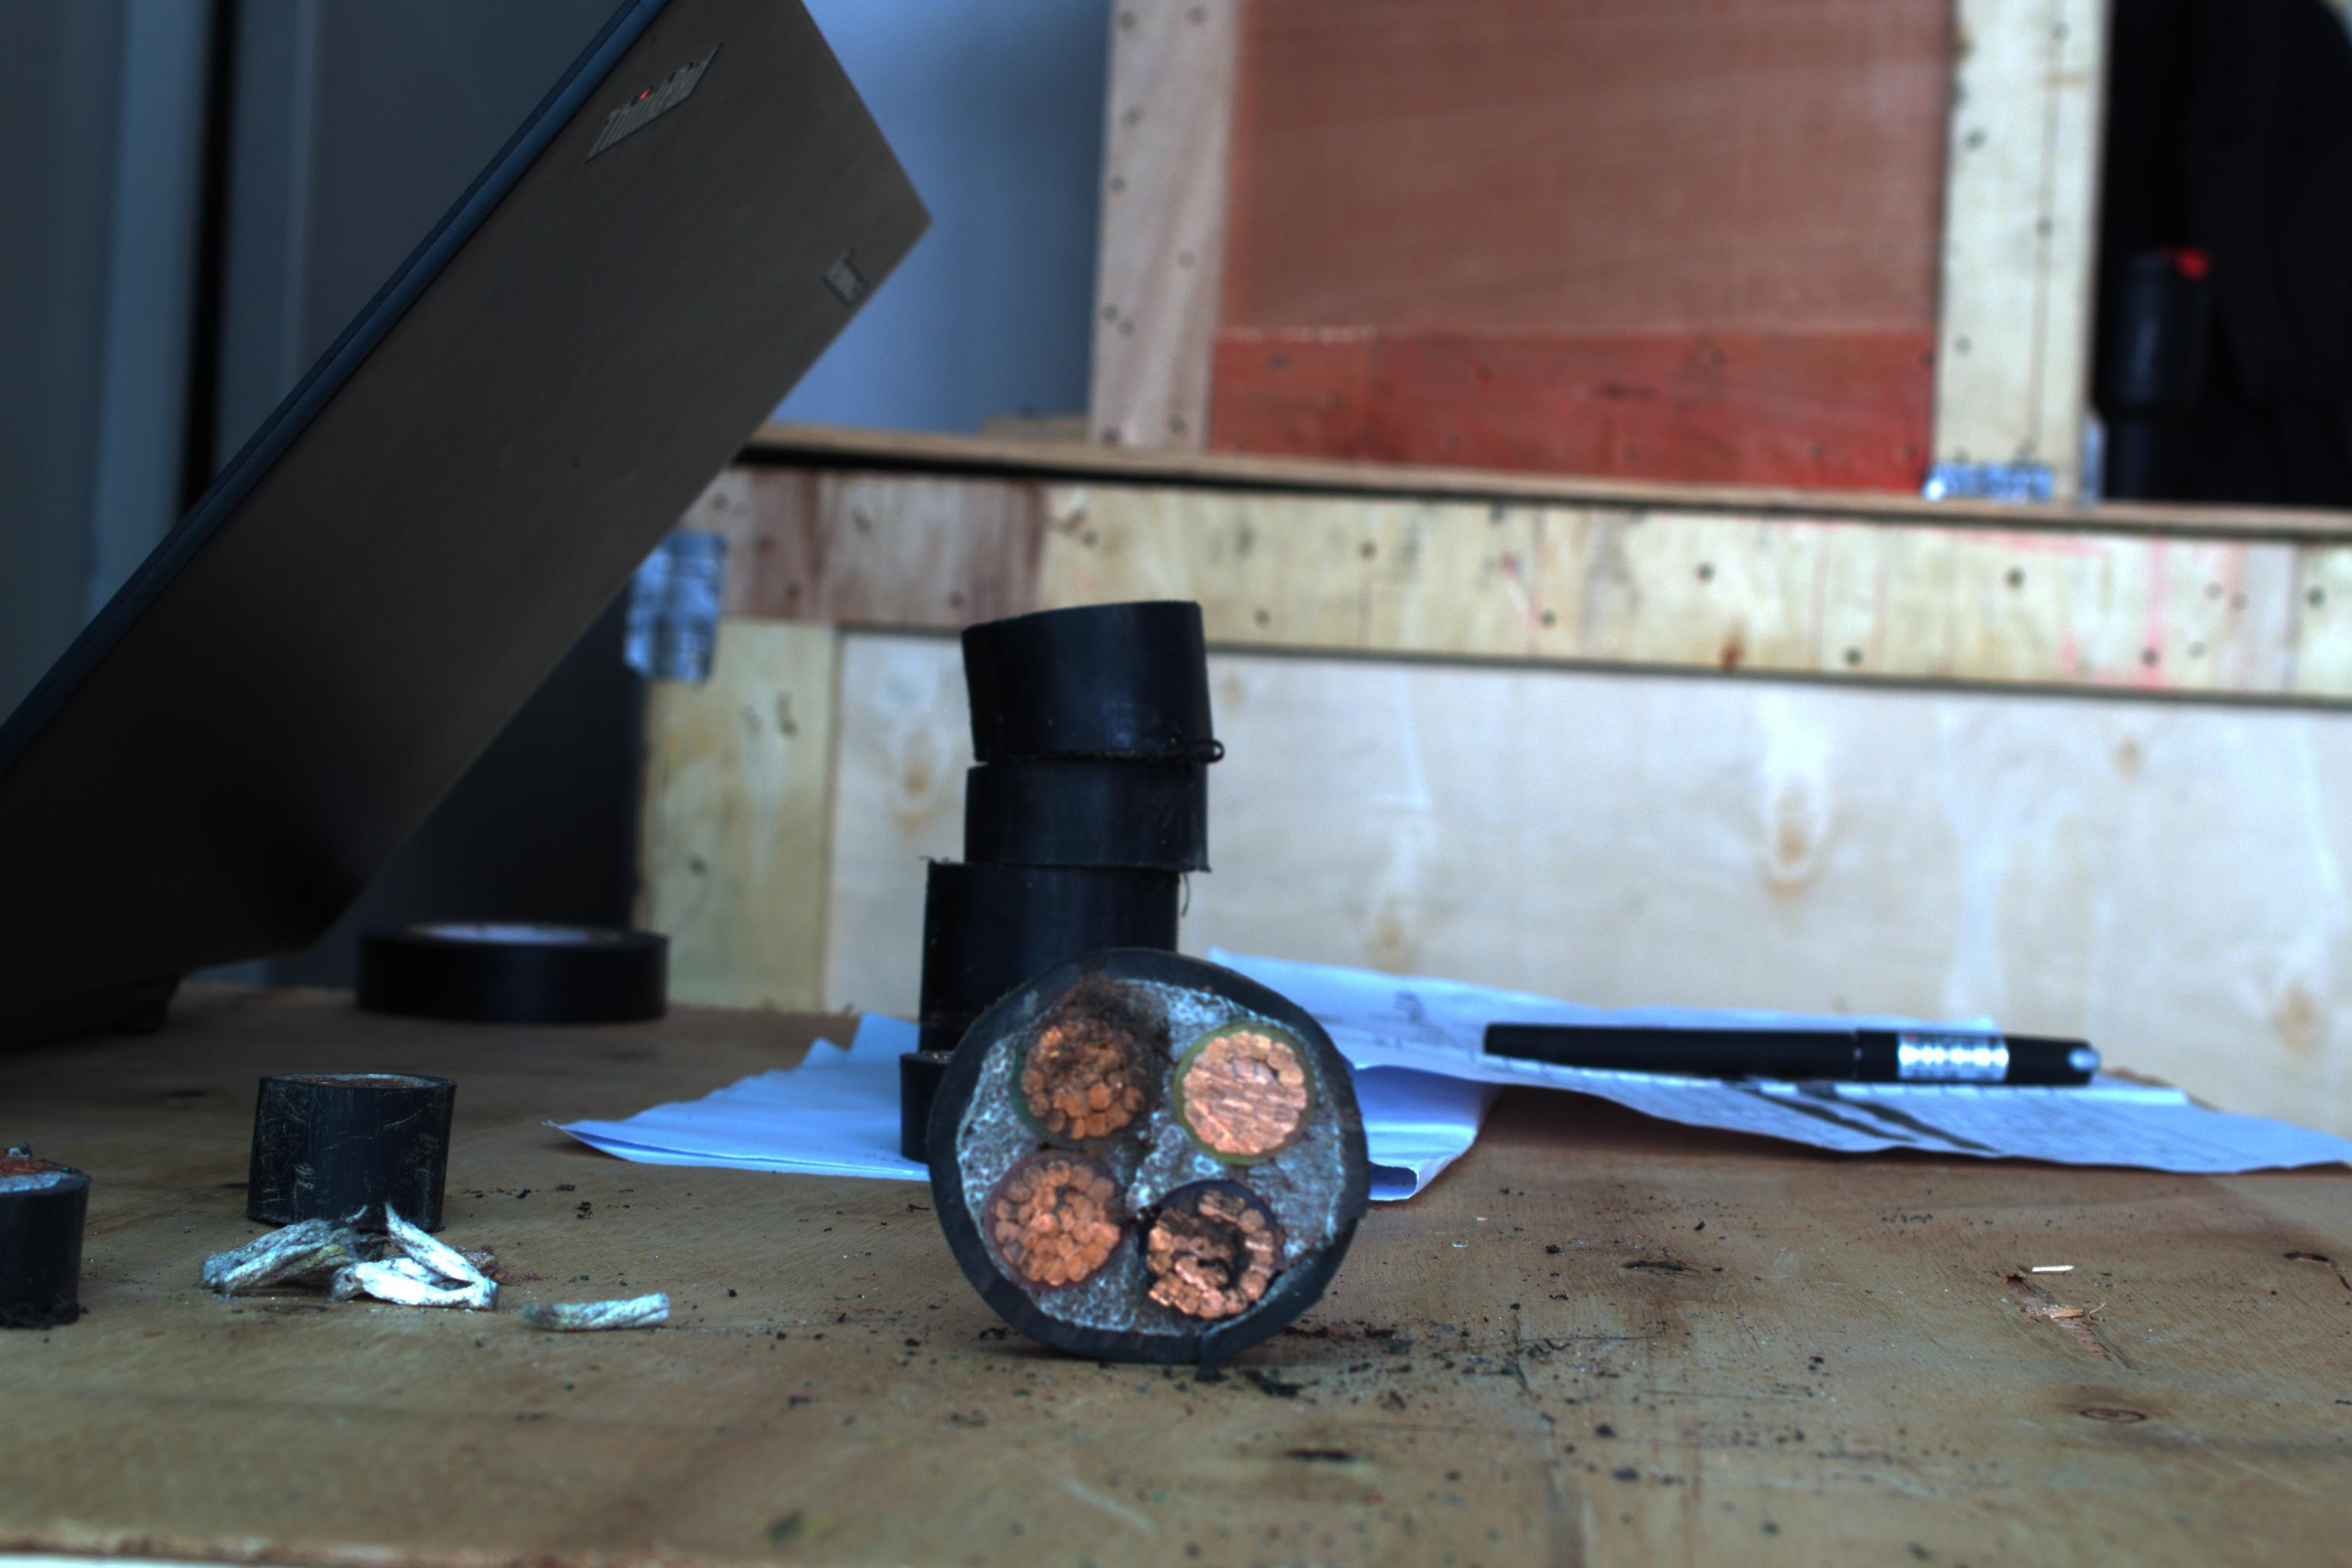YJV_0.6_1kV_4x120: (920, 955, 1367, 1354)
